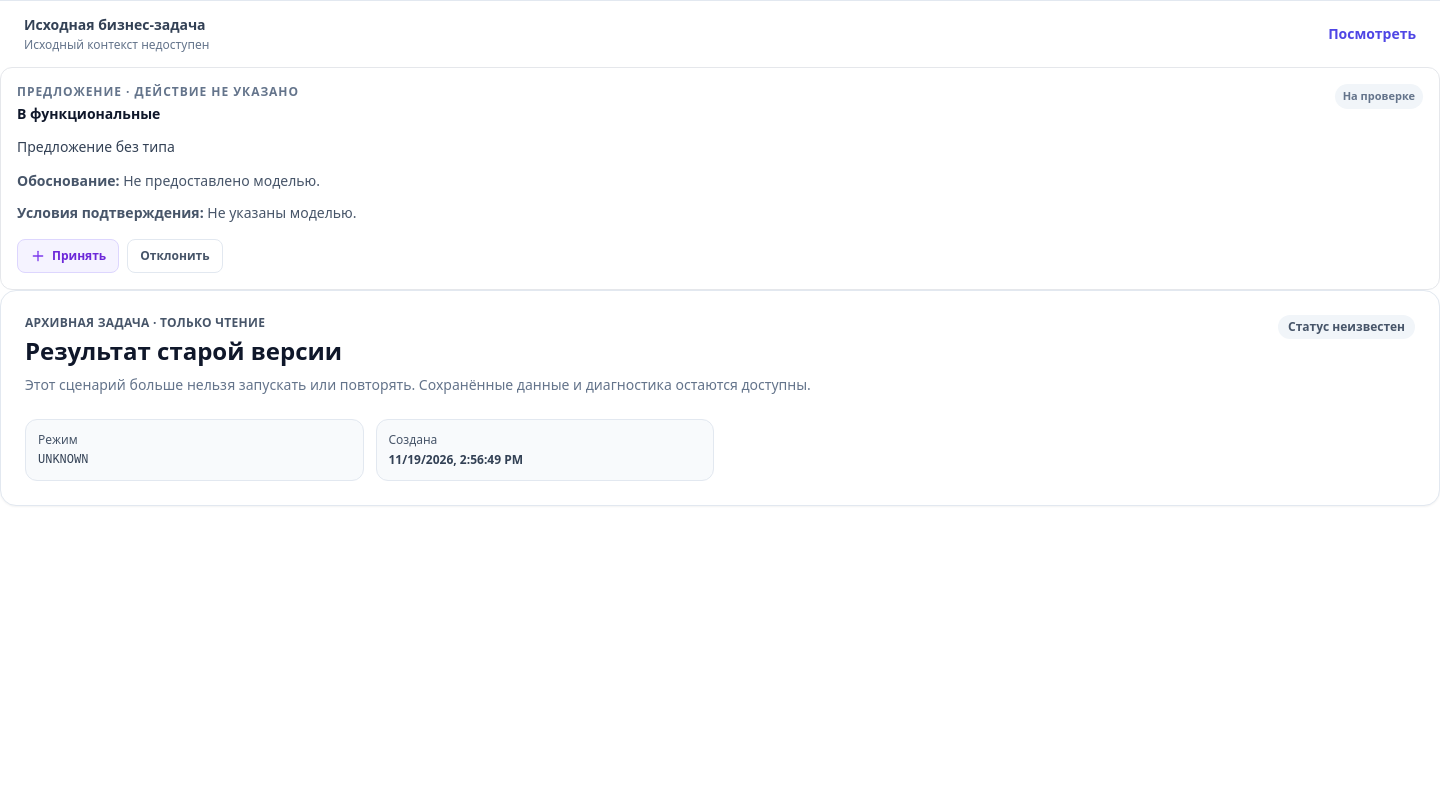
Test: AsyncJobWorkspace presentational branches › covers fallback labels for historical and diagnostic edge states
This screenshot has width=1440, height=810.
Later steps or results of the test are not shown.
Step 1. Click the heading named "Исходный бизнес-контекст" → coordinates (115, 24), box [24,15,1416,53]
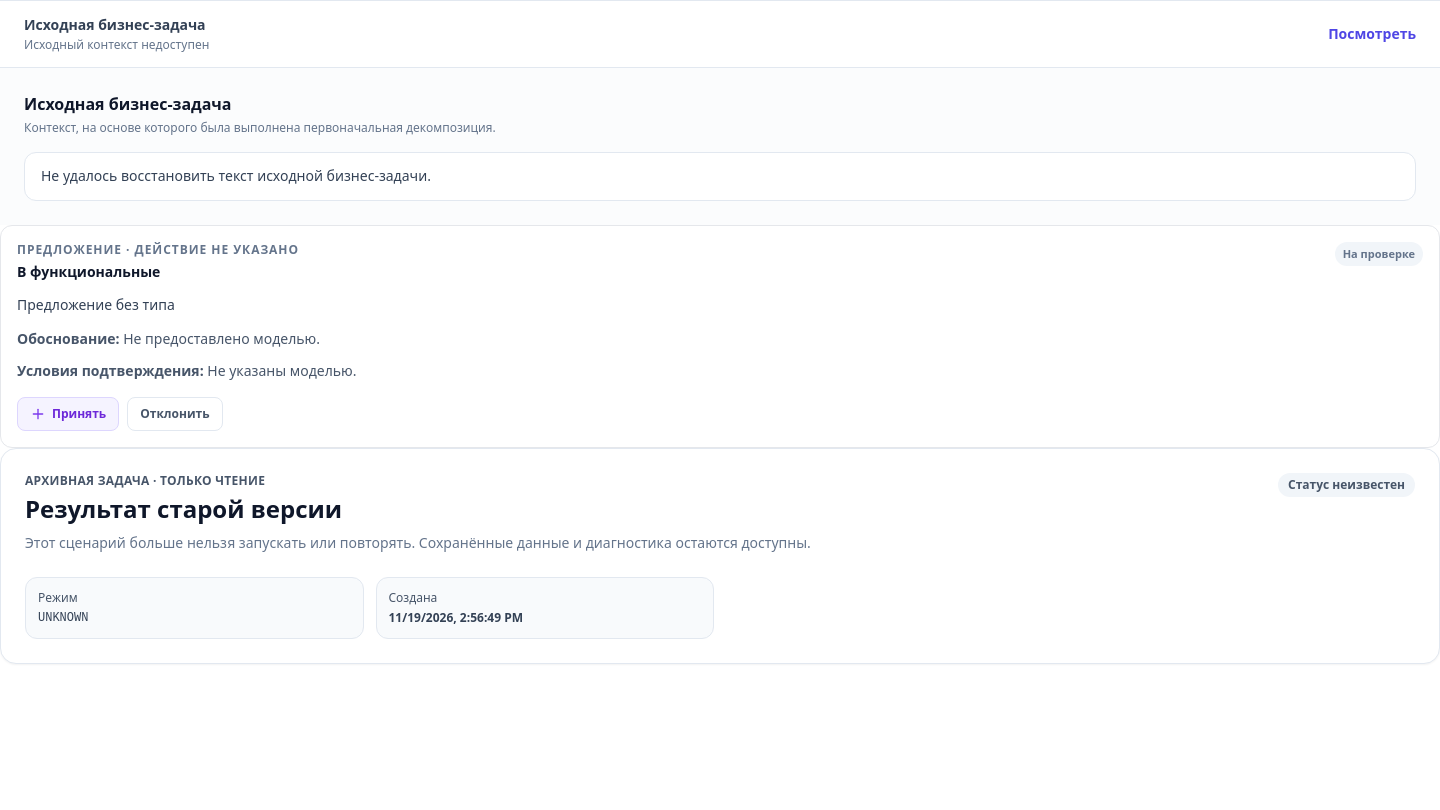
Expected: the text "Предложение без типа" is shown, [17,295,175,314]
Expected: the text "текст исходной бизнес-задачи" shows "Не удалось восстановить", [41,166,431,185]
